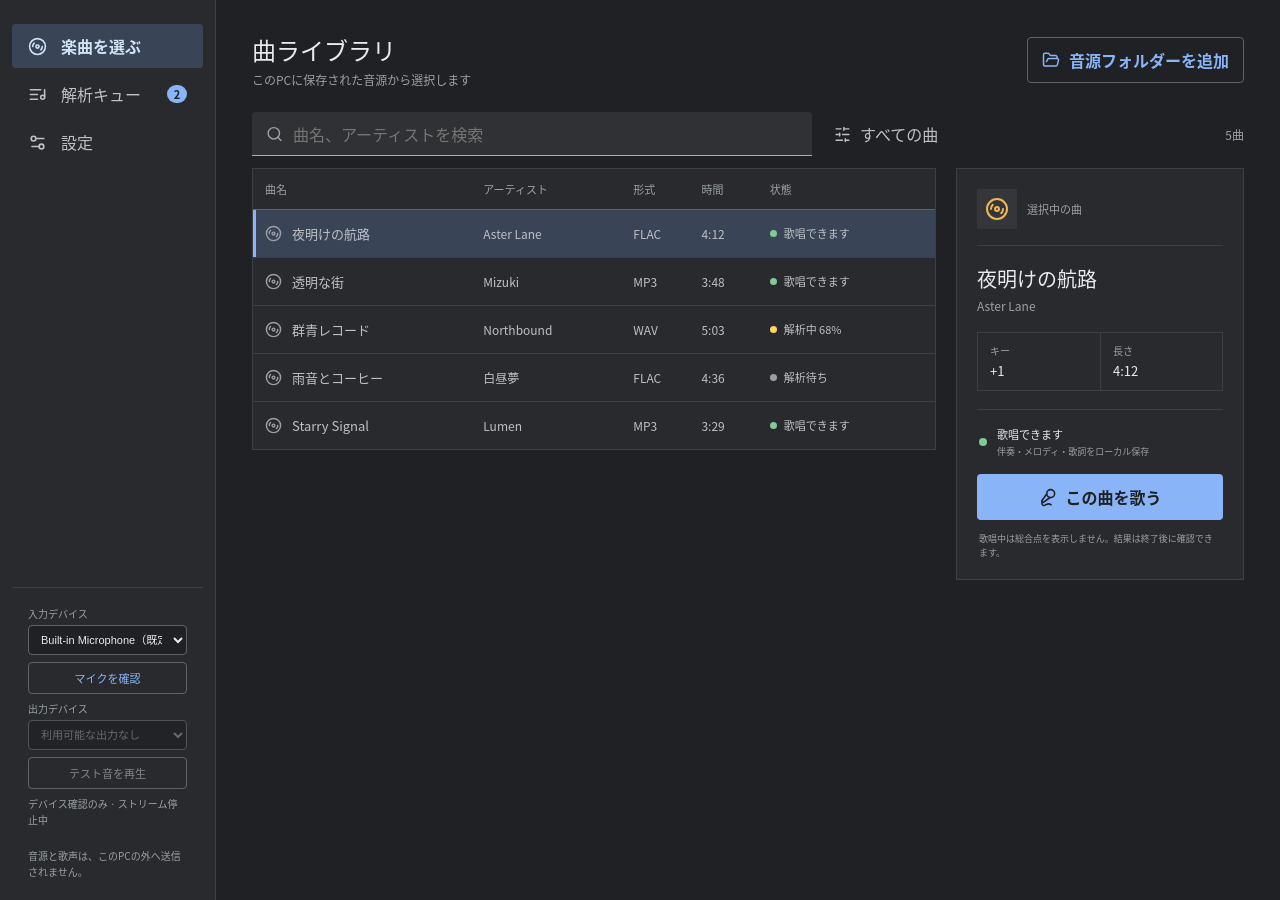
Test: song library › measures microphone level without starting audible monitoring
Step 1. Click the button "マイクを確認" → (108, 678), box left=28, top=662, right=187, bottom=694
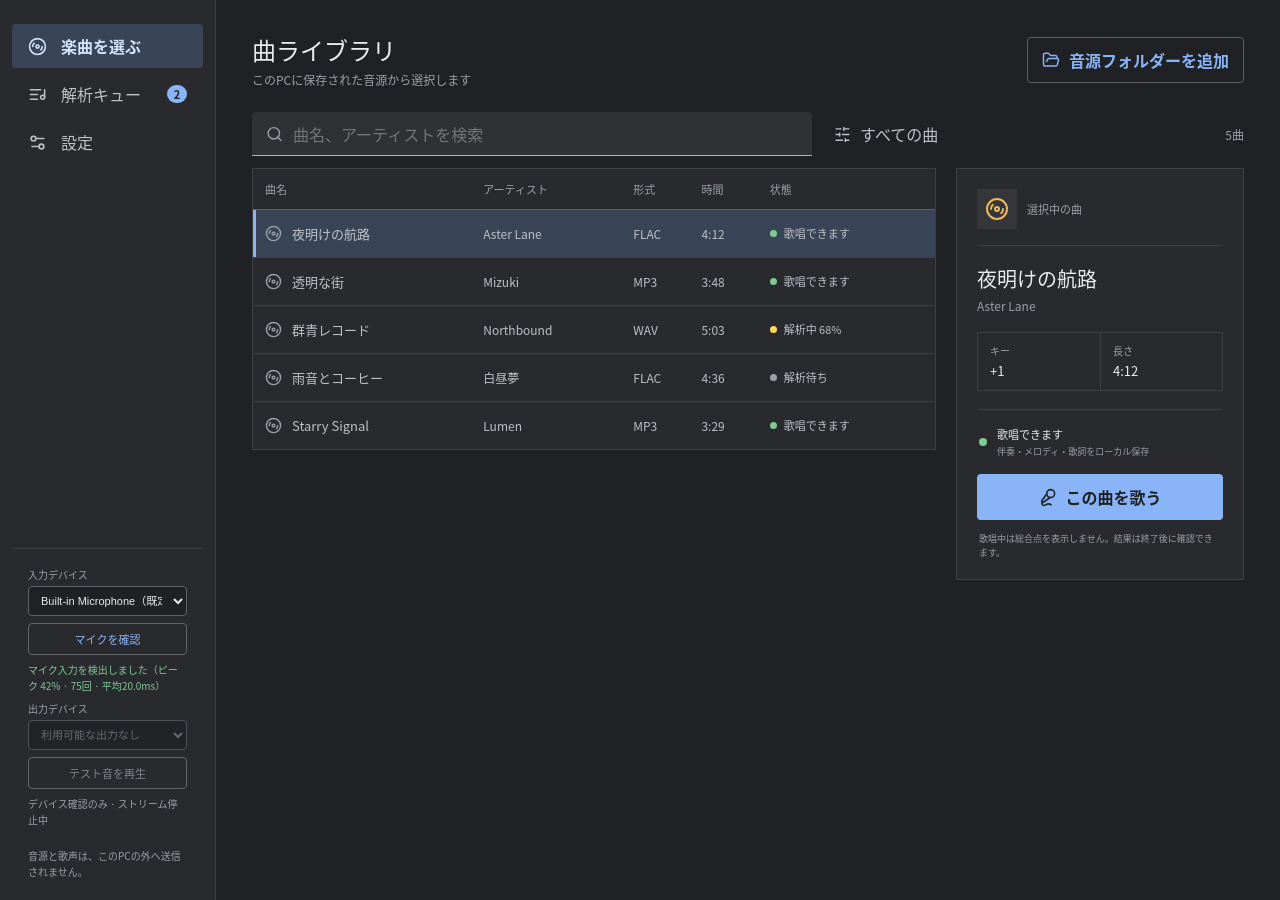
Result: the message reads "マイク入力を検出しました（ピーク 42% · 75回 · 平均20.0ms）" at left=28, top=662, right=187, bottom=694
